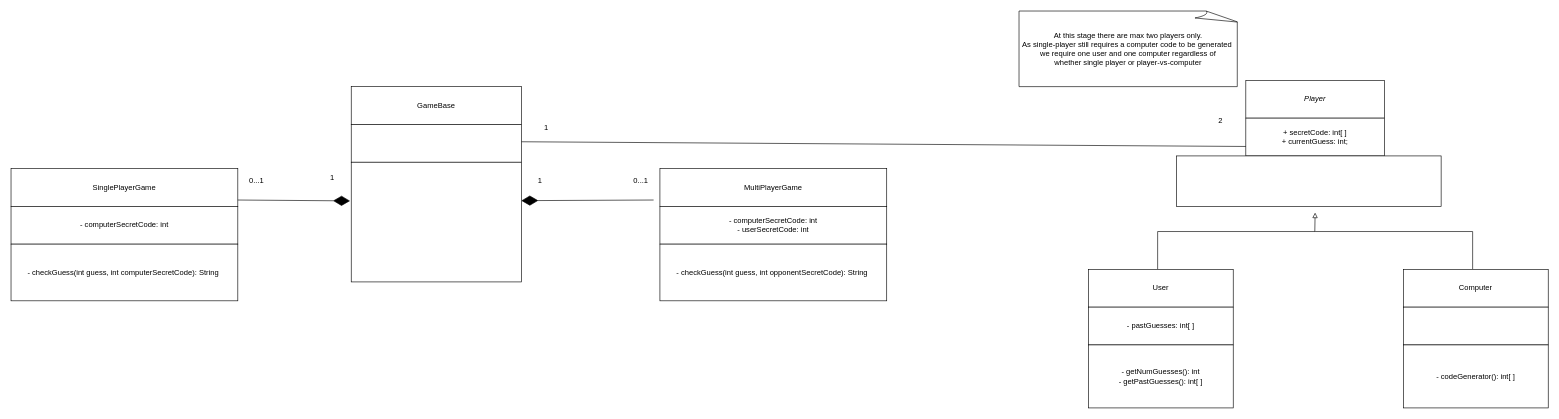
Some shapes in this 1559 by 419 pixel diagram are drawn without their labels. Here are the shapes that lost their labels. From the top down, the box of each, then its label:
(351, 124, 521, 162): - numOfPlayers: int
(1176, 155, 1441, 206): +createSecretCode(): void + createGuess(): void
(351, 162, 521, 282): - printWelcomeMessage(): void - selectNumPlayers(): int
